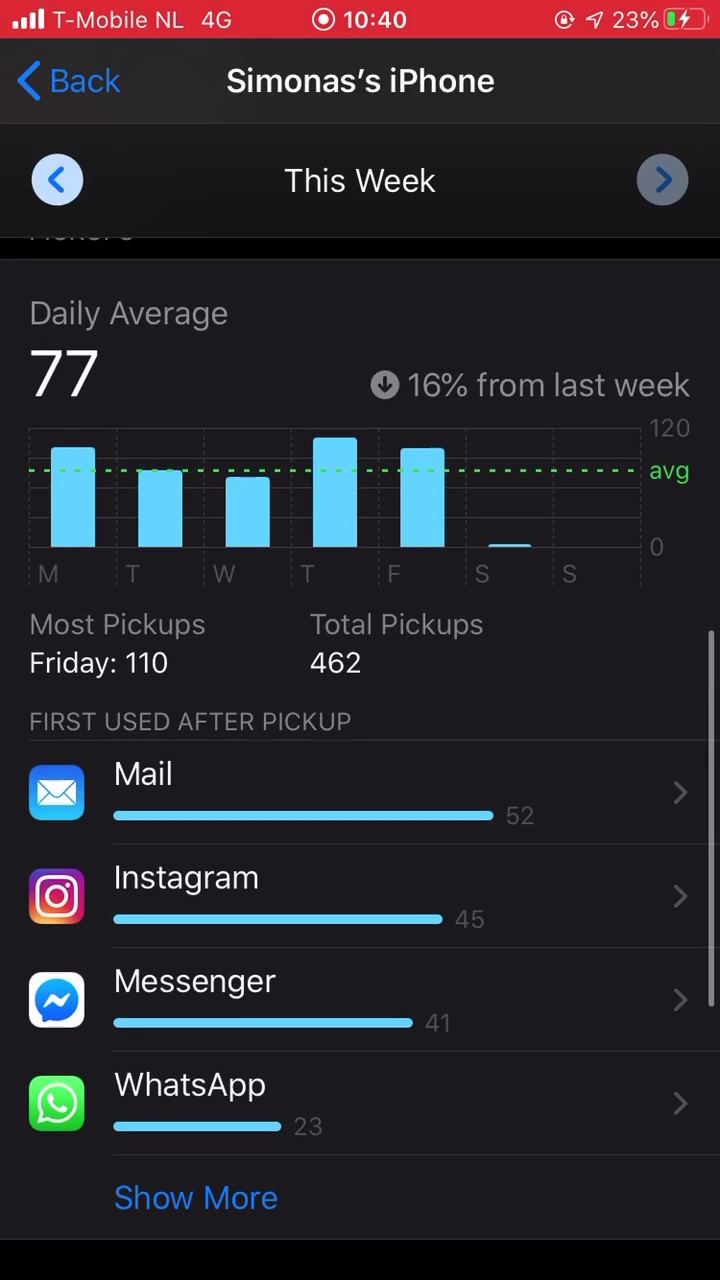pick_app: (3, 750, 532, 846), (9, 864, 507, 947), (17, 963, 475, 1053), (18, 1069, 354, 1149)
pick_over: (3, 600, 546, 692)
week: (264, 160, 466, 205)
